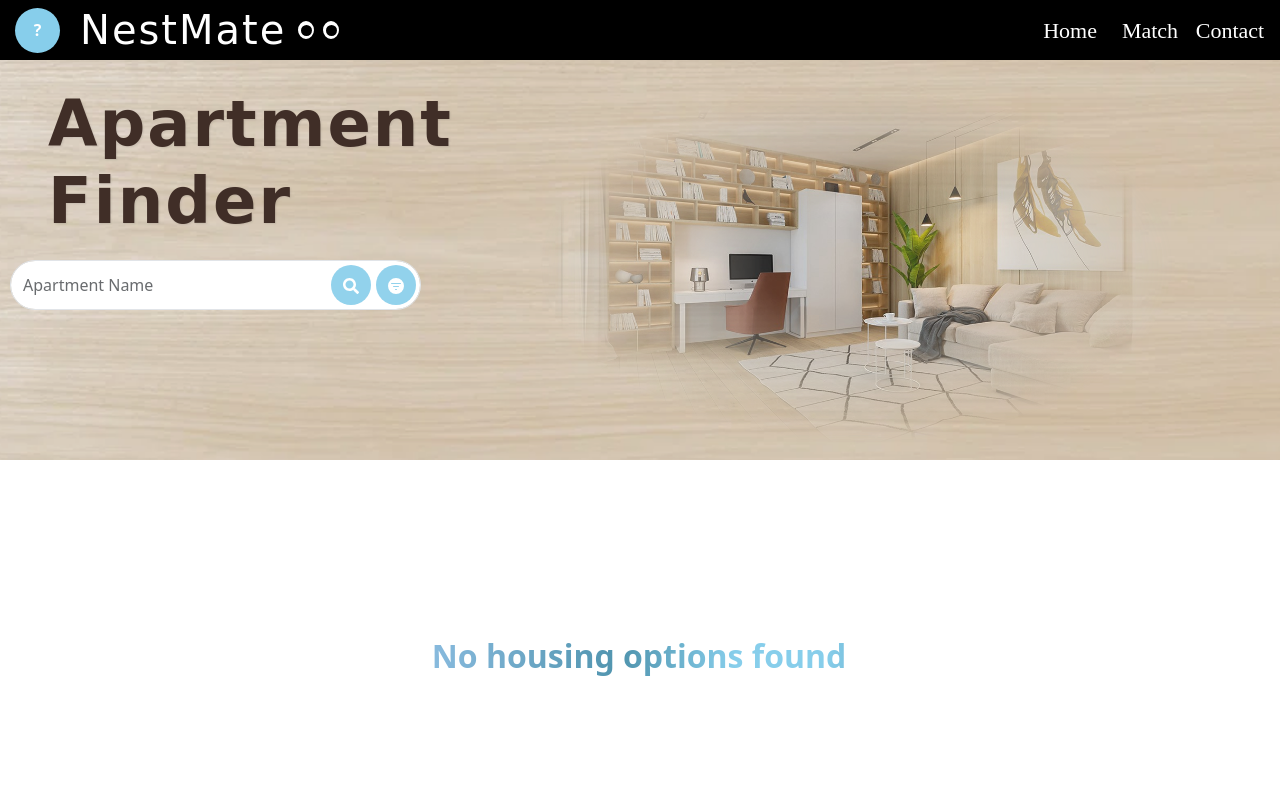
Test case: Login and Signup Tests › Should switch to signup mode
This screenshot has width=1280, height=800.
Click the text "?": coordinates (38, 31) [15,8,60,53]
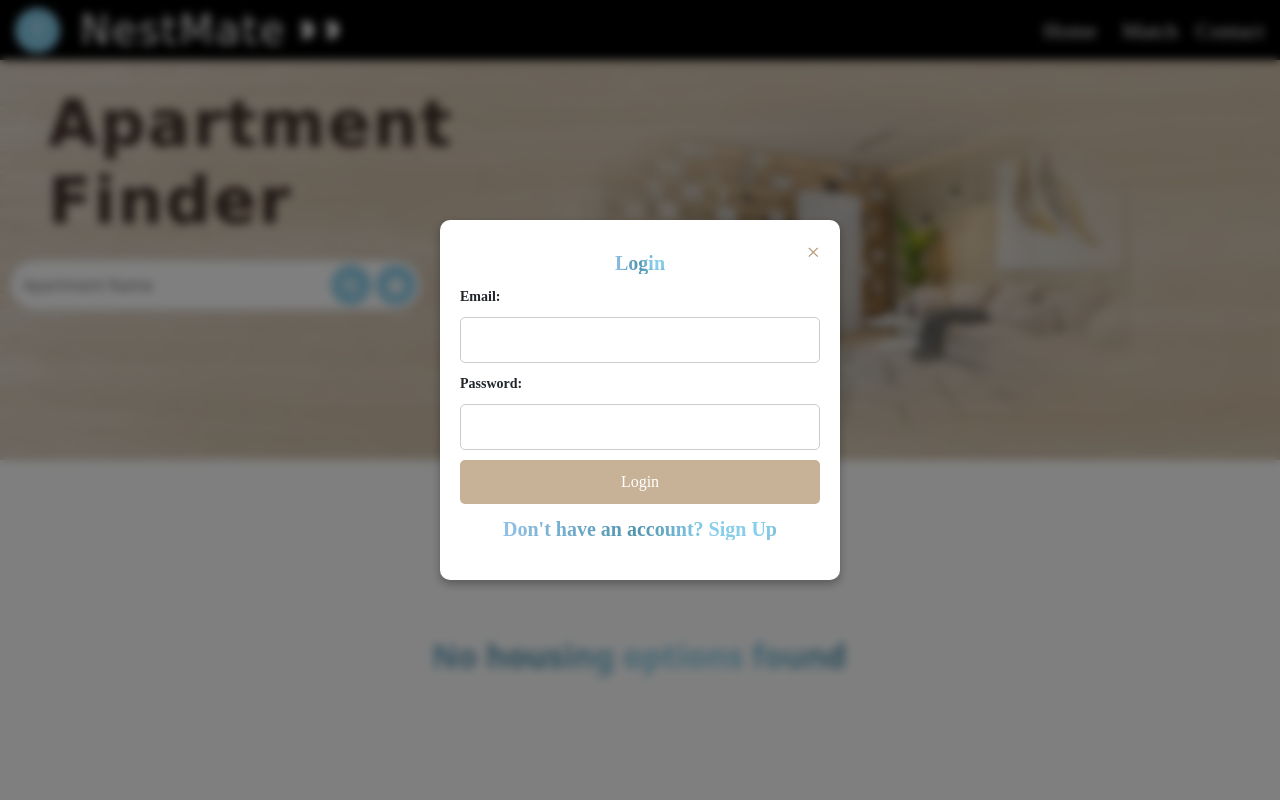
Now the element with class "login-popup" is shown, box [440,220,840,580]
Click the text "Don't have an account? Sign Up": coordinates (640, 529) [503,518,777,540]
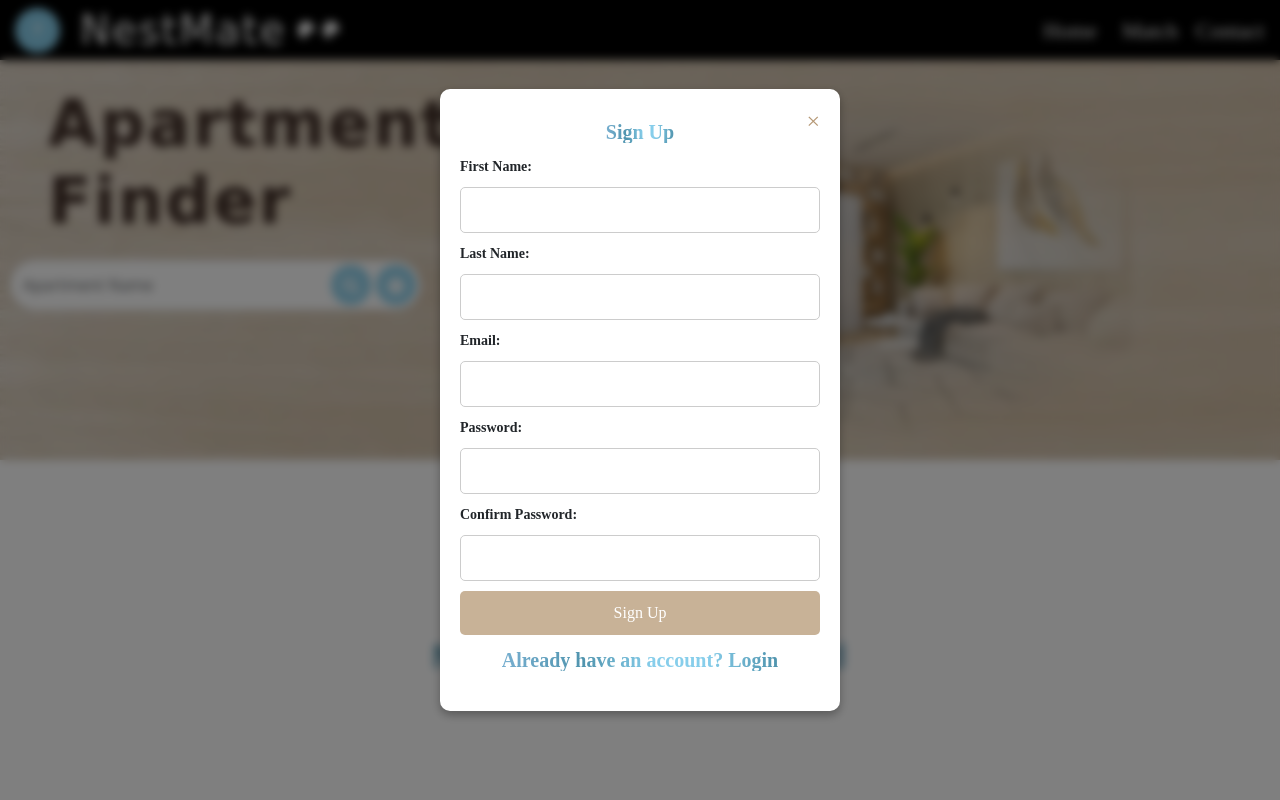
Now the text "Sign Up" is shown, box [606,121,674,143]
